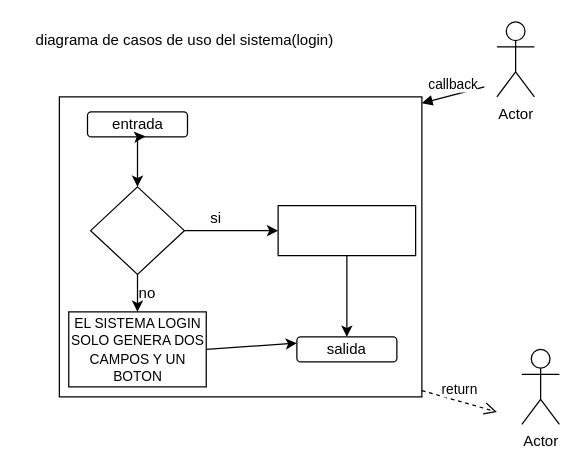
Some shapes in this 581 by 473 pixel diagram are drawn without their labels. The shapes that lost their labels are listed below. From the top down, each one's centre as x and y in pixels, then its label:
pixel 136 230: el login tiene acceso con apis
pixel 346 230: desarollar cuentas para api(costos)
